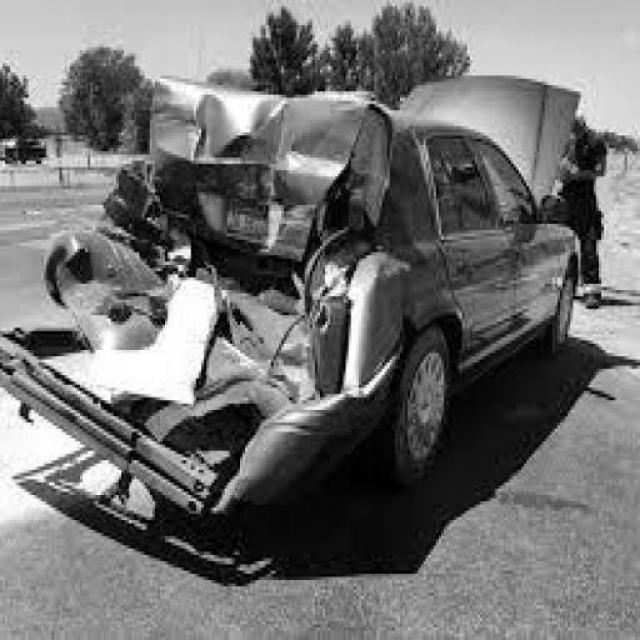crush: (0, 70, 408, 535)
